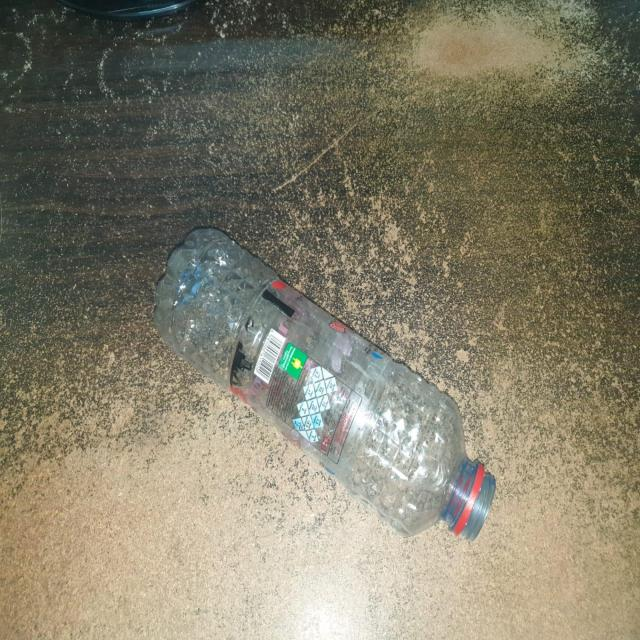bottle: (137, 219, 500, 566)
